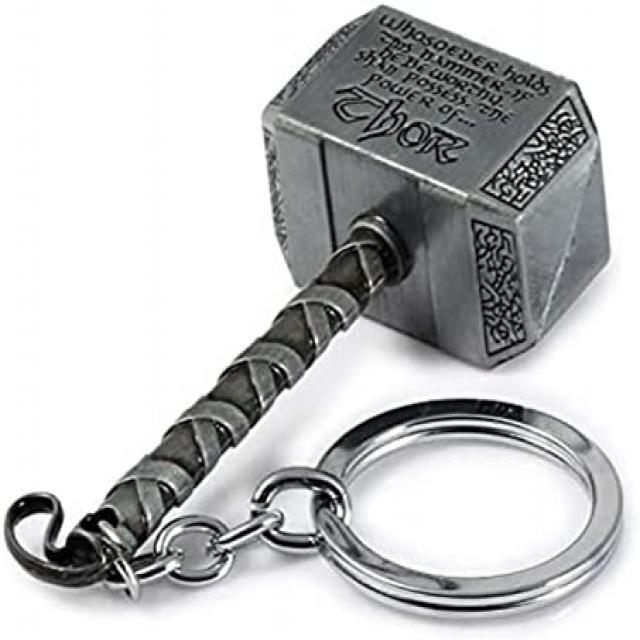hammer: (0, 0, 619, 594)
